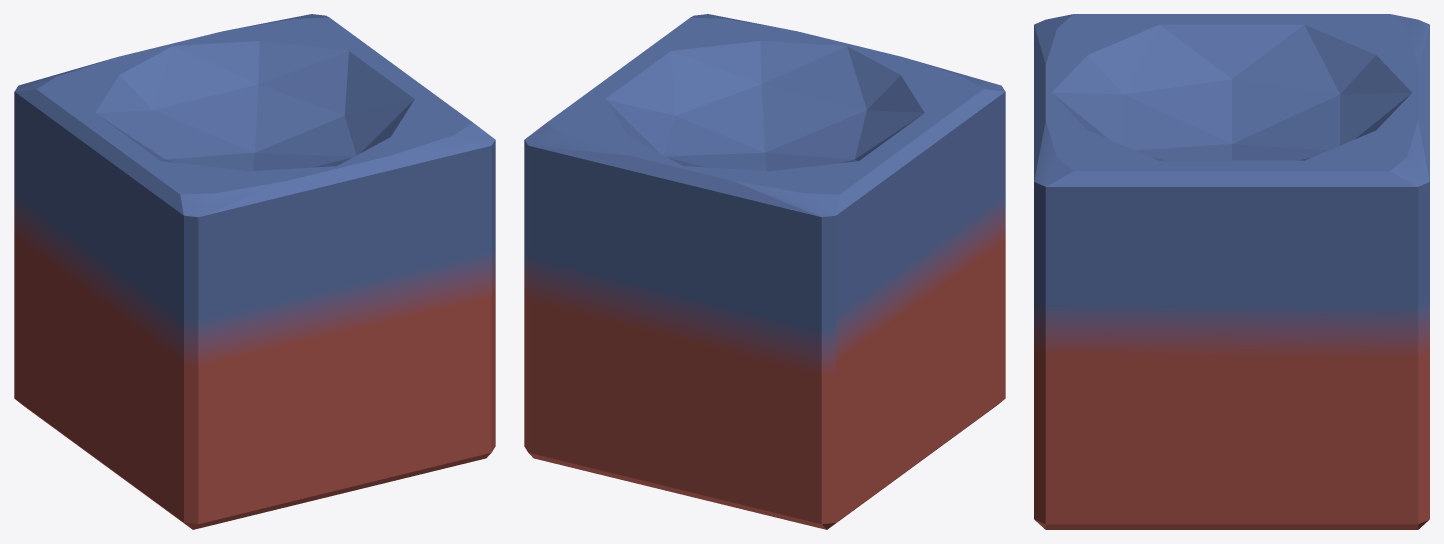
Rendered from chalk.dae.
The picture shows the model from 3 angles, left to right: view 1: azimuth 30°, elevation 25°; view 2: azimuth 150°, elevation 25°; view 3: azimuth 270°, elevation 25°; orthographic projection. The views are drawn at different scales.
Parts seen in each view (by area): view 1: chalk; view 2: chalk; view 3: chalk.
Boxes of the visible parts, x1=… form: chalk: x1=14, y1=14, x2=495, y2=529; chalk: x1=524, y1=14, x2=1005, y2=529; chalk: x1=1034, y1=14, x2=1429, y2=529.
Bounding box in the file's own units: 1.71 × 1.71 × 1.71.
